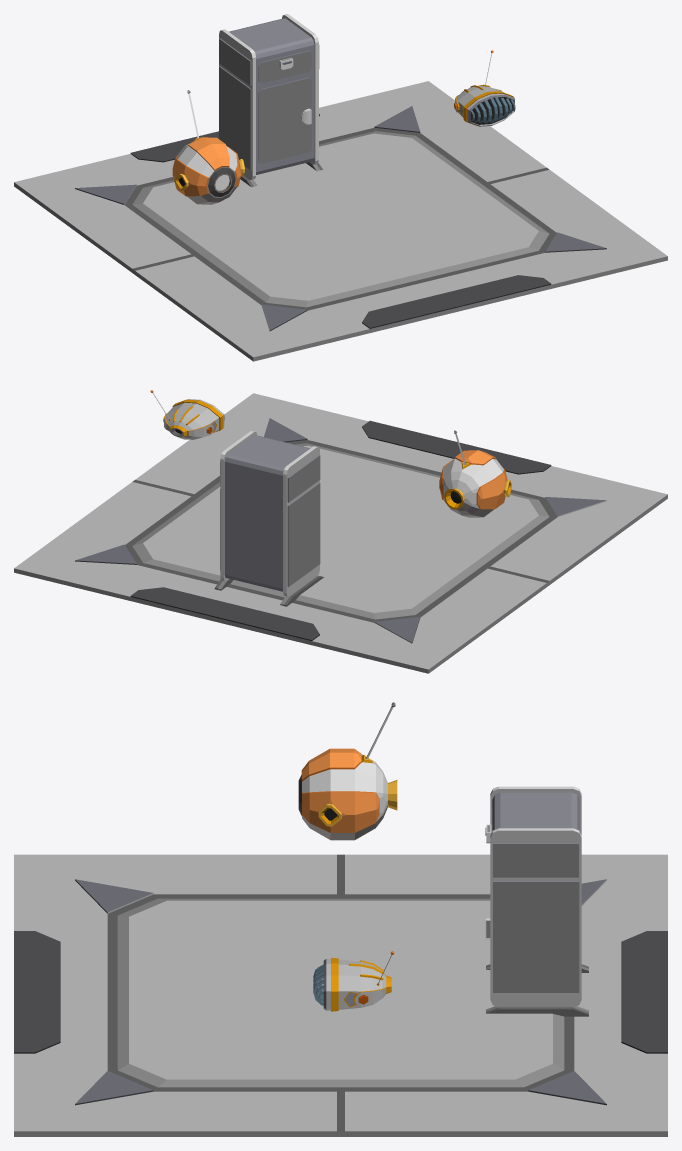
The model's file is Robots.glb.
3 renders of one model, top to bottom at view 1: azimuth 30°, elevation 25°; view 2: azimuth 150°, elevation 25°; view 3: azimuth 270°, elevation 25°, orthographic. The views are drawn at different scales.
Visible parts, largest first — view 1: FloorModuleSciFi_01, Drawer_03, Droid_01, Droid_02; view 2: FloorModuleSciFi_01, Drawer_03, Droid_01, Droid_02; view 3: FloorModuleSciFi_01, Drawer_03, Droid_01, Droid_02.
Boxes of the visible parts, x1,y1,x2,y2 form: FloorModuleSciFi_01: (14,81,667,361); Drawer_03: (219,14,322,187); Droid_01: (172,90,244,204); Droid_02: (454,50,515,126); FloorModuleSciFi_01: (14,393,667,673); Drawer_03: (214,431,323,606); Droid_01: (439,430,511,517); Droid_02: (150,390,224,439); FloorModuleSciFi_01: (14,854,667,1136); Drawer_03: (485,786,588,1016); Droid_01: (298,702,397,840); Droid_02: (313,951,394,1011).
Bounding box in the file's own units: 4 × 1.4 × 4.
Materials: 1 (1 with a texture image).
